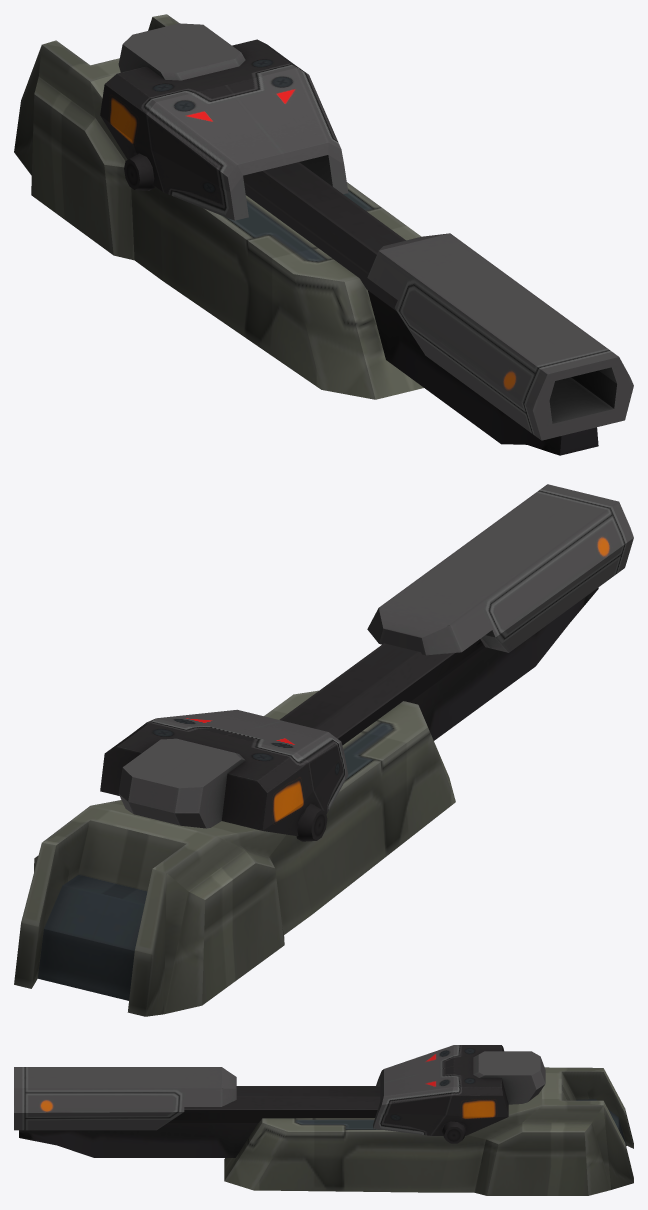
File: NewRailwMount.fbx
3 views of the same model, one above another, from view 1: azimuth 30°, elevation 25°; view 2: azimuth 150°, elevation 25°; view 3: azimuth 270°, elevation 25° (orthographic). The views are drawn at different scales.
Parts seen in each view (by area): view 1: ARC_HullRR_Top.004, Arcade1_CanonX003.005, Arcade1_CanonX003.008, Arcade1_CanonX003.006; view 2: ARC_HullRR_Top.004, Arcade1_CanonX003.008, Arcade1_CanonX003.005, Arcade1_CanonX003.006; view 3: ARC_HullRR_Top.004, Arcade1_CanonX003.008, Arcade1_CanonX003.005, Arcade1_CanonX003.006.
Part boxes in pixels (bbox=[...]): ARC_HullRR_Top.004: bbox=[14, 14, 598, 455]; Arcade1_CanonX003.005: bbox=[100, 23, 348, 220]; Arcade1_CanonX003.008: bbox=[367, 233, 633, 440]; Arcade1_CanonX003.006: bbox=[243, 162, 405, 311]; ARC_HullRR_Top.004: bbox=[14, 587, 598, 1016]; Arcade1_CanonX003.008: bbox=[367, 484, 633, 655]; Arcade1_CanonX003.005: bbox=[100, 709, 348, 841]; Arcade1_CanonX003.006: bbox=[279, 639, 484, 745]; ARC_HullRR_Top.004: bbox=[19, 1067, 633, 1195]; Arcade1_CanonX003.008: bbox=[14, 1067, 236, 1130]; Arcade1_CanonX003.005: bbox=[373, 1045, 545, 1143]; Arcade1_CanonX003.006: bbox=[168, 1086, 380, 1122].
Size of the model in its own units: 8.77 by 7.77 by 40.83.
